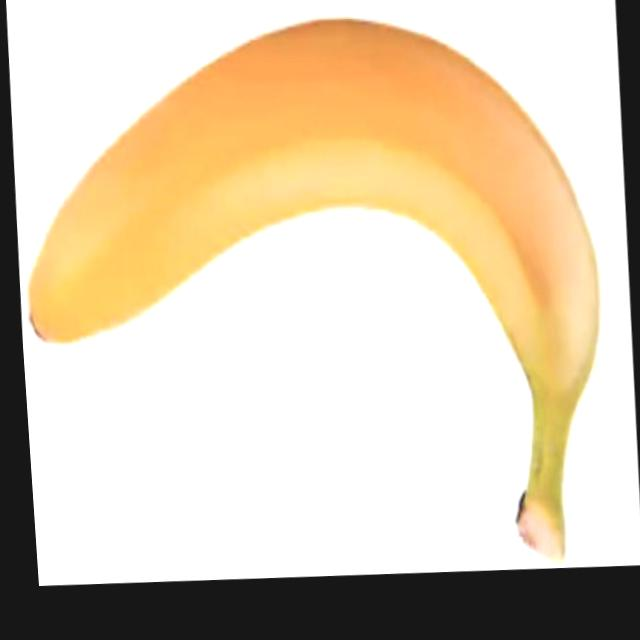Banana: (3, 6, 616, 592)
